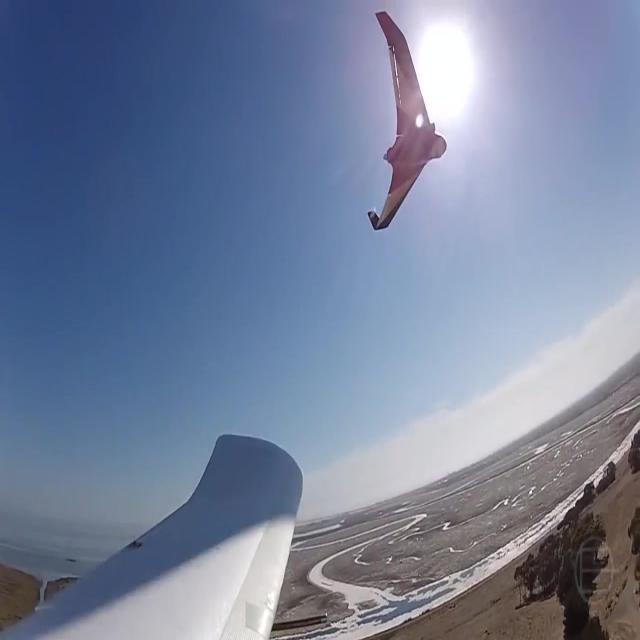iha: (397, 0, 417, 172)
